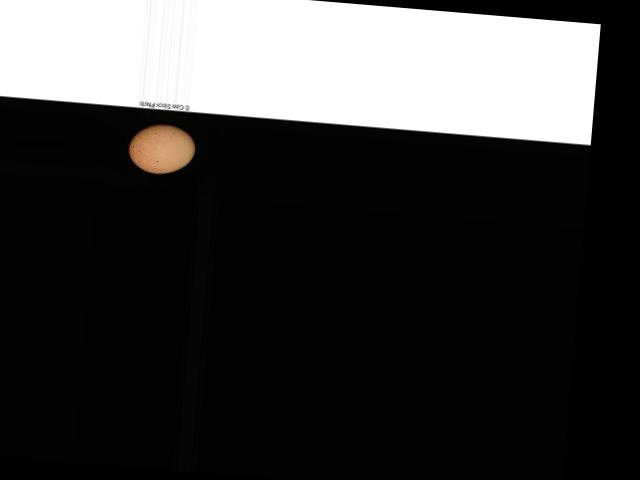egg: (127, 120, 196, 175)
